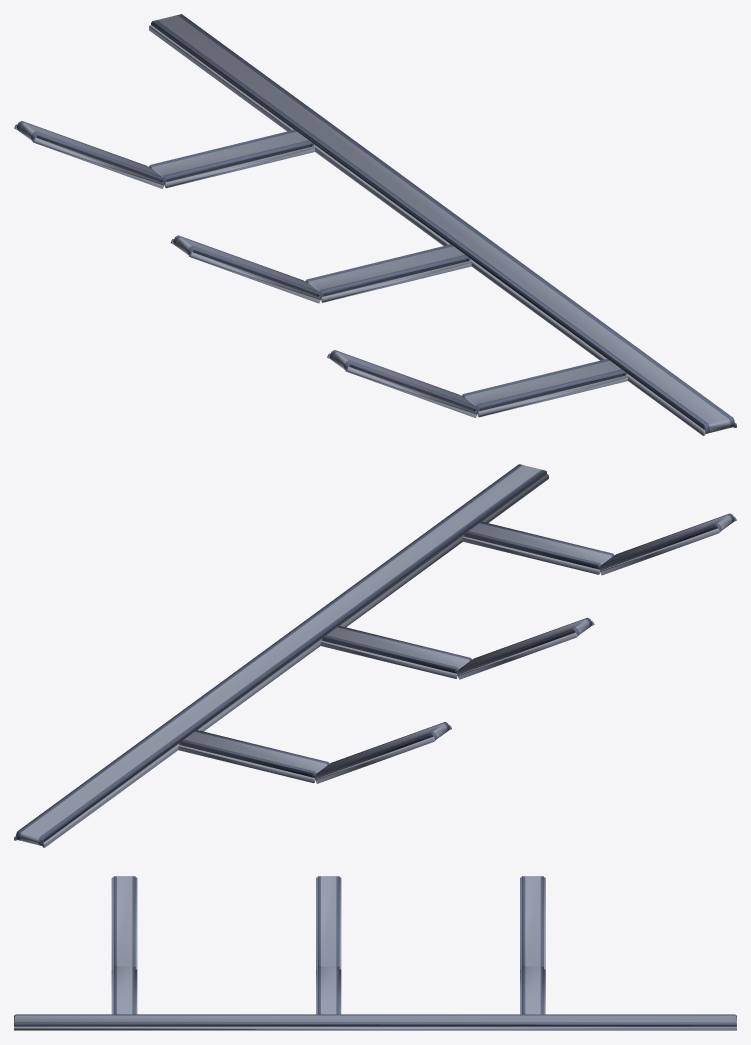
The model's file is conveyor belt.obj.
The picture shows the model from 3 angles, top to bottom: view 1: azimuth 30°, elevation 25°; view 2: azimuth 150°, elevation 25°; view 3: azimuth 270°, elevation 25°; orthographic projection. The views are drawn at different scales.
Parts seen in each view (by area): view 1: conveyor-long-stripe-sides_conveyor-long-stripe-sides.001, conveyor-long-stripe-sides.004_conveyor-long-stripe-sides.002, conveyor-long-stripe-sides.002, conveyor-long-stripe-sides.005_conveyor-long-stripe-sides.002, conveyor-long-stripe-sides.003_conveyor-long-stripe-sides.002, conveyor-long-stripe-sides.007_conveyor-long-stripe-sides.002, conveyor-long-stripe-sides.006_conveyor-long-stripe-sides.002; view 2: conveyor-long-stripe-sides_conveyor-long-stripe-sides.001, conveyor-long-stripe-sides.002, conveyor-long-stripe-sides.004_conveyor-long-stripe-sides.002, conveyor-long-stripe-sides.005_conveyor-long-stripe-sides.002, conveyor-long-stripe-sides.007_conveyor-long-stripe-sides.002, conveyor-long-stripe-sides.003_conveyor-long-stripe-sides.002, conveyor-long-stripe-sides.006_conveyor-long-stripe-sides.002; view 3: conveyor-long-stripe-sides_conveyor-long-stripe-sides.001, conveyor-long-stripe-sides.007_conveyor-long-stripe-sides.002, conveyor-long-stripe-sides.006_conveyor-long-stripe-sides.002, conveyor-long-stripe-sides.003_conveyor-long-stripe-sides.002, conveyor-long-stripe-sides.005_conveyor-long-stripe-sides.002, conveyor-long-stripe-sides.002, conveyor-long-stripe-sides.004_conveyor-long-stripe-sides.002.
Part boxes in pixels (x1=…): conveyor-long-stripe-sides_conveyor-long-stripe-sides.001: x1=149, y1=14, x2=736, y2=435; conveyor-long-stripe-sides.004_conveyor-long-stripe-sides.002: x1=305, y1=244, x2=471, y2=302; conveyor-long-stripe-sides.002: x1=149, y1=129, x2=314, y2=188; conveyor-long-stripe-sides.005_conveyor-long-stripe-sides.002: x1=462, y1=359, x2=627, y2=417; conveyor-long-stripe-sides.003_conveyor-long-stripe-sides.002: x1=14, y1=121, x2=164, y2=188; conveyor-long-stripe-sides.007_conveyor-long-stripe-sides.002: x1=327, y1=350, x2=477, y2=417; conveyor-long-stripe-sides.006_conveyor-long-stripe-sides.002: x1=170, y1=235, x2=321, y2=303; conveyor-long-stripe-sides_conveyor-long-stripe-sides.001: x1=14, y1=464, x2=548, y2=847; conveyor-long-stripe-sides.002: x1=178, y1=730, x2=329, y2=783; conveyor-long-stripe-sides.004_conveyor-long-stripe-sides.002: x1=320, y1=626, x2=471, y2=678; conveyor-long-stripe-sides.005_conveyor-long-stripe-sides.002: x1=463, y1=521, x2=614, y2=574; conveyor-long-stripe-sides.007_conveyor-long-stripe-sides.002: x1=600, y1=513, x2=736, y2=575; conveyor-long-stripe-sides.003_conveyor-long-stripe-sides.002: x1=315, y1=722, x2=451, y2=783; conveyor-long-stripe-sides.006_conveyor-long-stripe-sides.002: x1=457, y1=617, x2=594, y2=679; conveyor-long-stripe-sides_conveyor-long-stripe-sides.001: x1=14, y1=1014, x2=736, y2=1030; conveyor-long-stripe-sides.007_conveyor-long-stripe-sides.002: x1=111, y1=876, x2=137, y2=969; conveyor-long-stripe-sides.006_conveyor-long-stripe-sides.002: x1=316, y1=876, x2=341, y2=969; conveyor-long-stripe-sides.003_conveyor-long-stripe-sides.002: x1=520, y1=876, x2=545, y2=969; conveyor-long-stripe-sides.005_conveyor-long-stripe-sides.002: x1=111, y1=967, x2=137, y2=1014; conveyor-long-stripe-sides.002: x1=520, y1=967, x2=545, y2=1014; conveyor-long-stripe-sides.004_conveyor-long-stripe-sides.002: x1=316, y1=967, x2=341, y2=1014.
Bounding box in the file's own units: 13.97 × 3.6 × 42.5.
